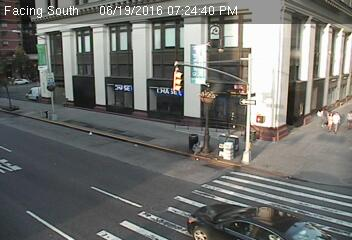neg: (26, 144, 48, 173), (37, 69, 57, 96), (72, 104, 90, 129), (277, 146, 295, 170), (140, 154, 158, 177), (187, 129, 204, 152), (214, 181, 231, 204), (299, 177, 316, 200), (70, 175, 87, 197), (281, 96, 297, 118), (213, 66, 229, 87), (214, 99, 230, 120), (251, 89, 267, 110), (102, 70, 117, 91), (165, 195, 180, 216), (301, 39, 316, 59), (228, 125, 242, 143), (169, 69, 182, 88), (109, 140, 122, 158), (111, 195, 124, 212), (272, 204, 284, 220), (77, 34, 88, 49)
pos: (327, 110, 345, 134)
